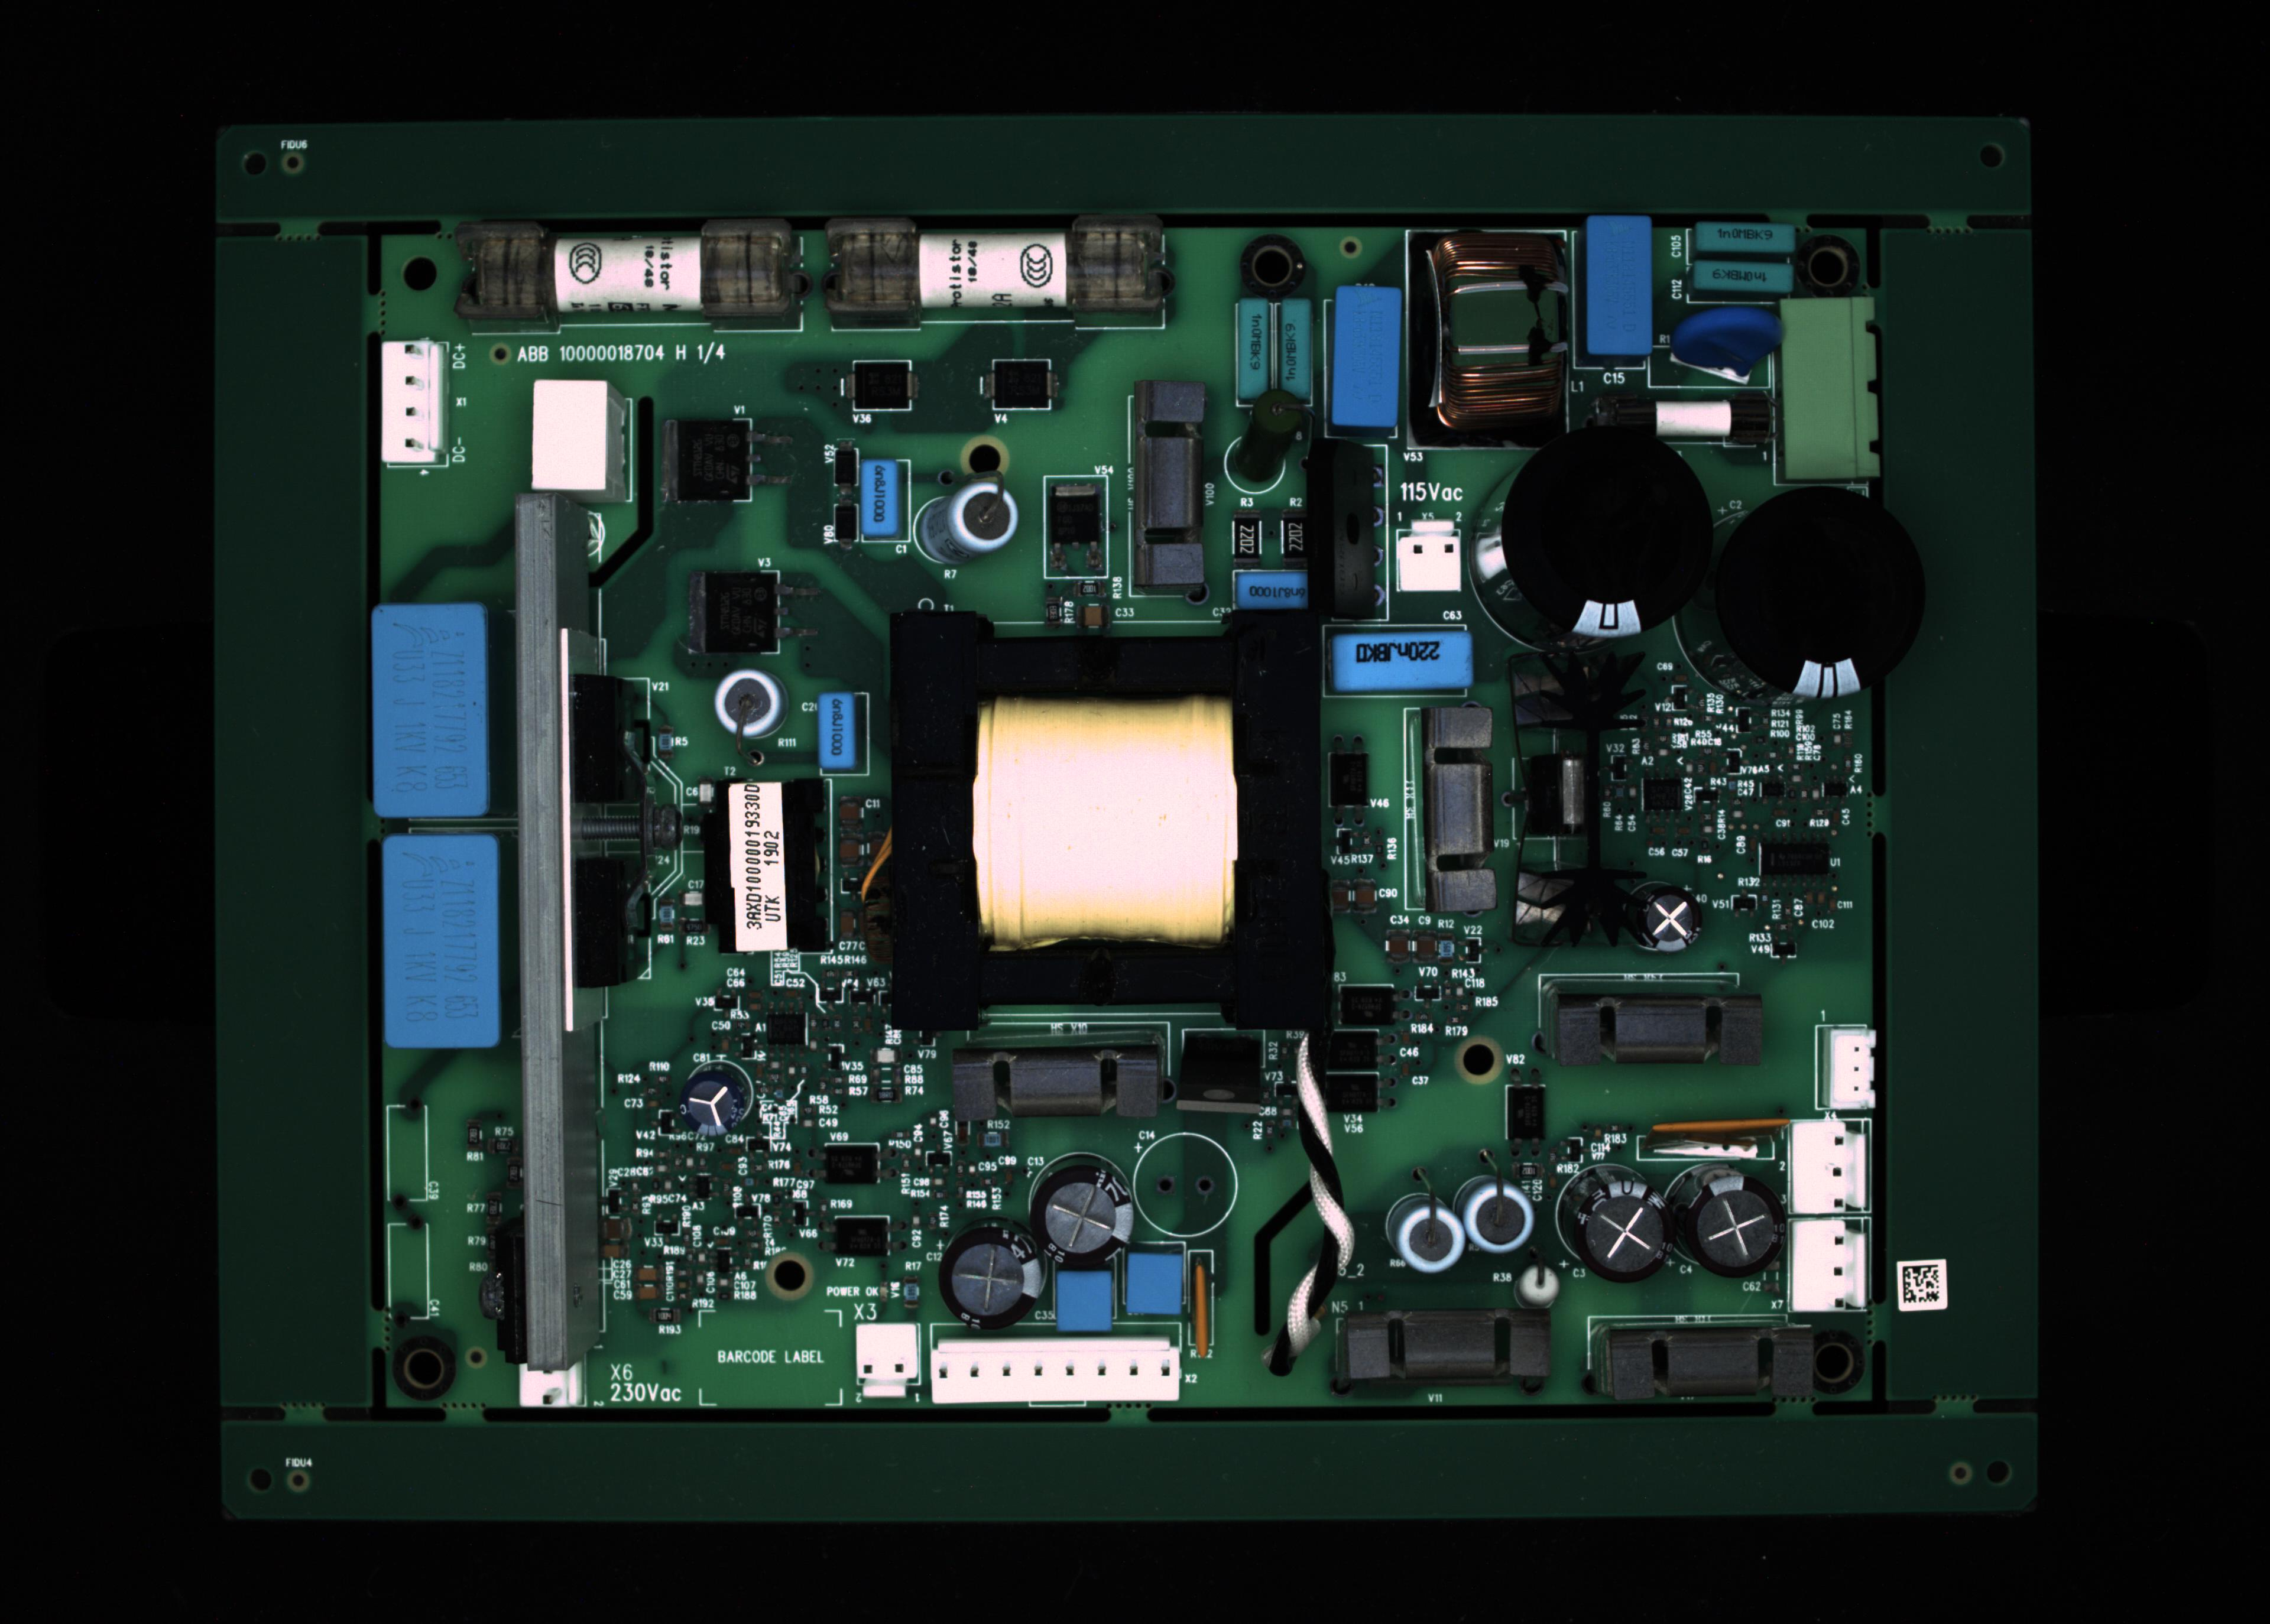10_p: (1670, 302, 1772, 394)
11_q: (1779, 295, 1881, 489)
12_r: (1591, 387, 1776, 455)
13_s: (380, 337, 443, 462)
14_t: (531, 380, 629, 492)
15_e: (862, 459, 899, 536)
16_k: (914, 475, 1018, 569)
17_u: (1136, 385, 1206, 594)
18_v: (1238, 569, 1312, 610)
19_w: (1338, 633, 1472, 689)
1_a: (455, 216, 807, 336)
20_f: (1393, 517, 1470, 599)
21_g: (1468, 429, 1709, 652)
22_g: (1711, 482, 1929, 700)
23_h: (369, 598, 489, 819)
24_h: (380, 833, 505, 1048)
25_f: (513, 1360, 589, 1411)
26_f: (851, 1323, 927, 1403)
27_x: (930, 1339, 1178, 1403)
29_i: (1027, 1153, 1134, 1274)
2_a: (819, 216, 1175, 330)
30_i: (941, 1216, 1055, 1339)
31_j: (1050, 1267, 1120, 1339)
32_j: (1122, 1246, 1194, 1327)
33_e: (819, 694, 853, 765)
34_k: (1379, 1197, 1465, 1281)
35_k: (1456, 1178, 1542, 1271)
36_i: (1556, 1164, 1672, 1295)
37_i: (1663, 1160, 1786, 1290)
38_l: (1333, 1318, 1560, 1394)
39_l: (1597, 1316, 1823, 1394)
3_b: (1236, 295, 1270, 401)
40_l: (1539, 995, 1769, 1069)
41_y: (1407, 678, 1505, 919)
42_z: (1823, 1026, 1874, 1109)
43_m: (1792, 1125, 1866, 1216)
44_m: (1788, 1225, 1867, 1311)
45_i: (679, 1065, 756, 1142)
46_n: (1338, 982, 1396, 1025)
47_n: (823, 1144, 879, 1188)
48_n: (832, 1216, 891, 1258)
49_aa: (765, 1012, 804, 1044)
4_b: (1280, 299, 1315, 402)
50_n: (1313, 1028, 1380, 1070)
51_n: (1312, 1070, 1379, 1109)
52_ab: (1329, 750, 1368, 807)
53_ac: (1656, 1130, 1790, 1165)
54_ad: (1194, 1253, 1222, 1364)
55_l: (946, 1044, 1175, 1118)
56_ae: (1176, 1025, 1264, 1106)
57_af: (1509, 647, 1635, 951)
58_i: (1630, 884, 1706, 958)
59_o: (993, 360, 1053, 413)
5_c: (1335, 286, 1400, 424)
60_o: (853, 360, 911, 413)
6_6: (1405, 232, 1572, 452)
7_c: (1586, 213, 1648, 353)
8_d: (1686, 227, 1792, 260)
9_d: (1699, 262, 1793, 286)
